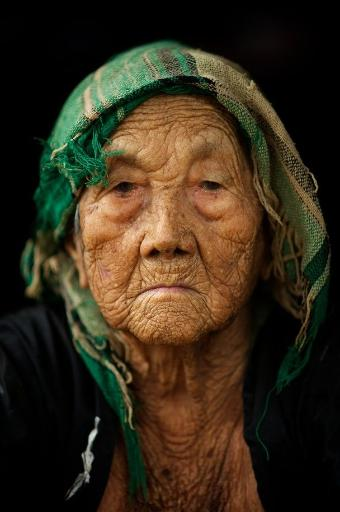left_eye: (195, 178, 230, 197)
left_lip_corner: (185, 283, 202, 297)
right_eye: (109, 181, 145, 199)
right_lip_corner: (132, 288, 155, 306)
